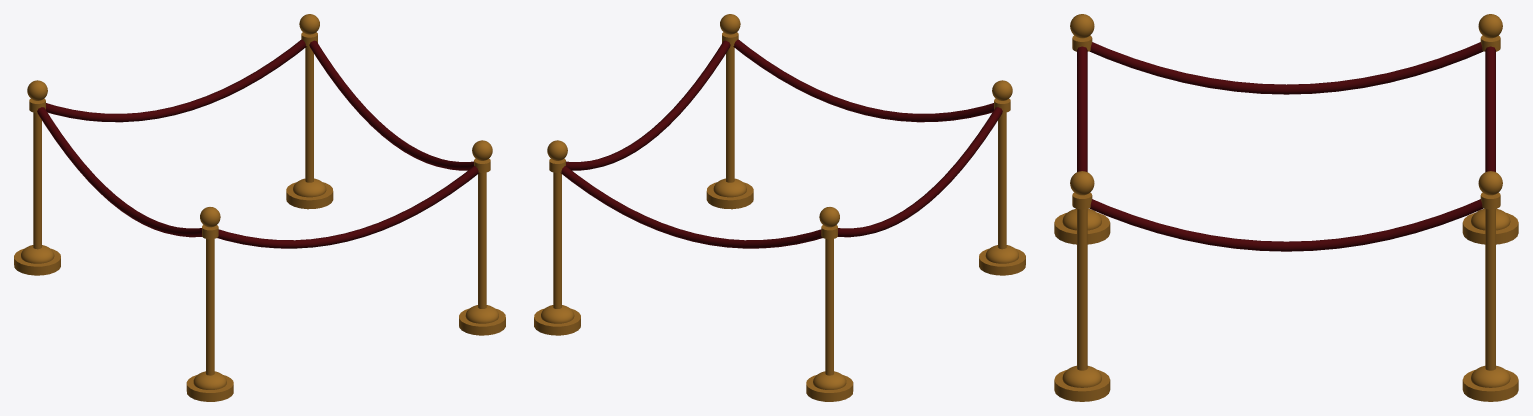
The model's file is Rail_GreeceRome_ClassicalStatue.fbx.
The picture shows the model from 3 angles, left to right: view 1: azimuth 30°, elevation 25°; view 2: azimuth 150°, elevation 25°; view 3: azimuth 270°, elevation 25°; orthographic projection. The views are drawn at different scales.
Parts seen in each view (by area): view 1: M_Barrier_Brass, M_Barrier_RedVelvet; view 2: M_Barrier_Brass, M_Barrier_RedVelvet; view 3: M_Barrier_Brass, M_Barrier_RedVelvet.
Part boxes in pixels (bbox=[...]): M_Barrier_Brass: bbox=[14, 14, 505, 401]; M_Barrier_RedVelvet: bbox=[37, 39, 479, 248]; M_Barrier_Brass: bbox=[534, 14, 1025, 401]; M_Barrier_RedVelvet: bbox=[560, 39, 1002, 248]; M_Barrier_Brass: bbox=[1054, 14, 1518, 401]; M_Barrier_RedVelvet: bbox=[1077, 42, 1495, 251].
Size of the model in its own units: 184 by 103 by 199.
